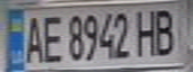2: (112, 8, 133, 60)
4: (100, 9, 118, 60)
8: (63, 10, 84, 62)
9: (81, 10, 100, 61)
A: (21, 11, 45, 64)
B: (151, 4, 181, 56)
E: (39, 11, 66, 64)
H: (133, 6, 160, 57)
